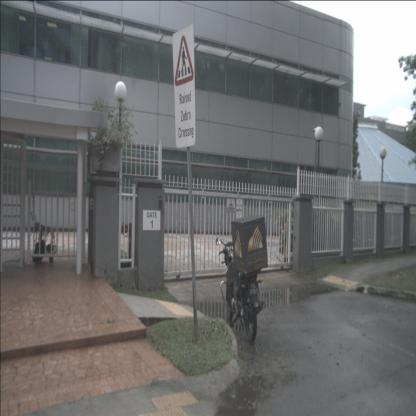vehicle-motorcycle: (216, 215, 268, 343)
